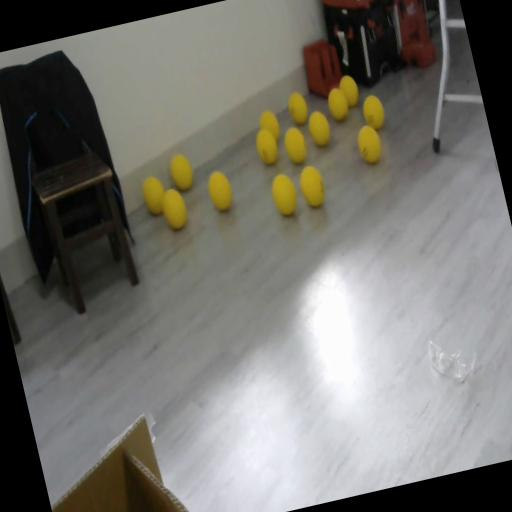FUEL: (268, 170, 302, 220), (158, 184, 192, 232), (296, 162, 328, 210), (205, 168, 236, 214), (353, 122, 385, 166), (166, 150, 197, 193), (304, 108, 334, 149), (280, 125, 310, 166), (140, 174, 168, 217), (360, 92, 388, 132), (256, 108, 284, 146), (285, 90, 311, 126), (325, 86, 351, 122), (336, 73, 362, 108)
